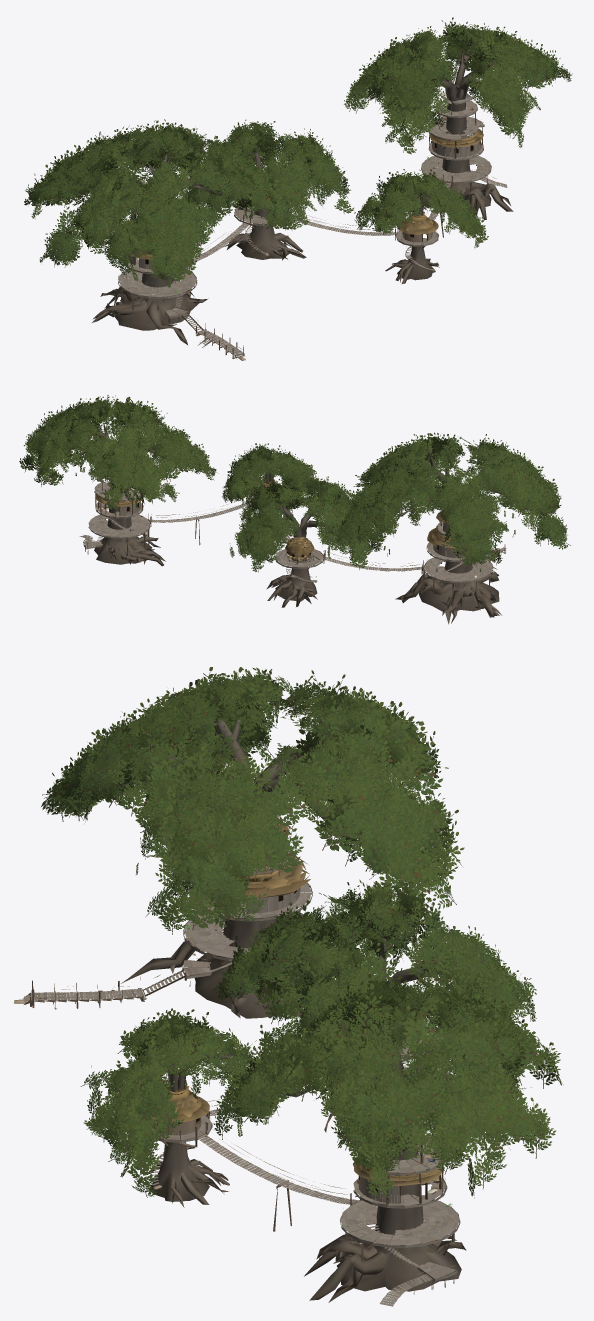
The model's file is village.glb.
3 renders of one model, top to bottom at view 1: azimuth 30°, elevation 25°; view 2: azimuth 150°, elevation 25°; view 3: azimuth 270°, elevation 25°, orthographic. The views are drawn at different scales.
Visible parts, largest first — view 1: Native village leaves, Native village treehouses and bridges; view 2: Native village leaves, Native village treehouses and bridges; view 3: Native village leaves, Native village treehouses and bridges.
Boxes of the visible parts, x1,y1,x2,y2 form: Native village leaves: (24,17,572,287); Native village treehouses and bridges: (71,41,513,360); Native village leaves: (19,395,570,587); Native village treehouses and bridges: (65,419,540,624); Native village leaves: (41,667,561,1244); Native village treehouses and bridges: (14,708,479,1306).
Bounding box in the file's own units: 13.35 × 3.88 × 6.52.
2 materials, 1 textured.
